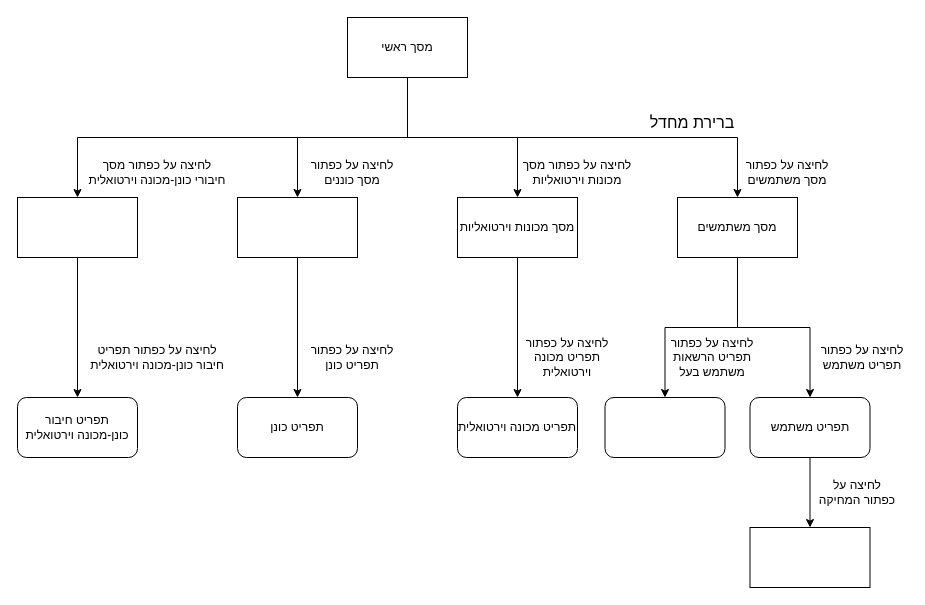
Image size: 925x605. Some labels were removed from this diagram. Here are the shapes that lost their labels. From the top down, the box of each, then its label:
(16, 196, 138, 258): מסך חיבורי כונן-מכונה וירטואלית
(236, 196, 358, 258): מסך כוננים
(604, 396, 725, 458): תפריט הרשאות משתמש בעל
(749, 526, 870, 588): מסך מחיקת משתמש
